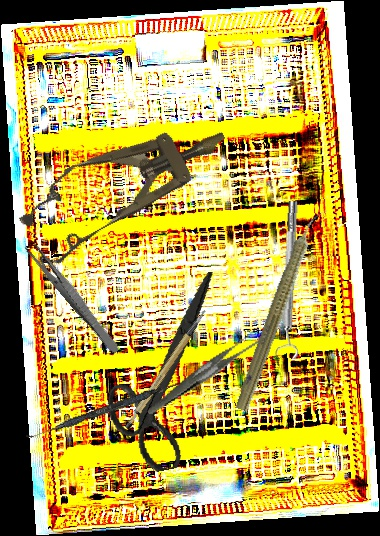Dressing Forceps: (134, 329, 272, 415), (23, 239, 124, 356)
Fixation Ring: (272, 200, 308, 360)
Handpiece: (231, 202, 330, 415)
Iris Scissors: (85, 271, 251, 479)
Scalpel Handle: (110, 309, 224, 432)
Spatula Surgical: (25, 377, 182, 444)
Speculum: (7, 98, 243, 274)
